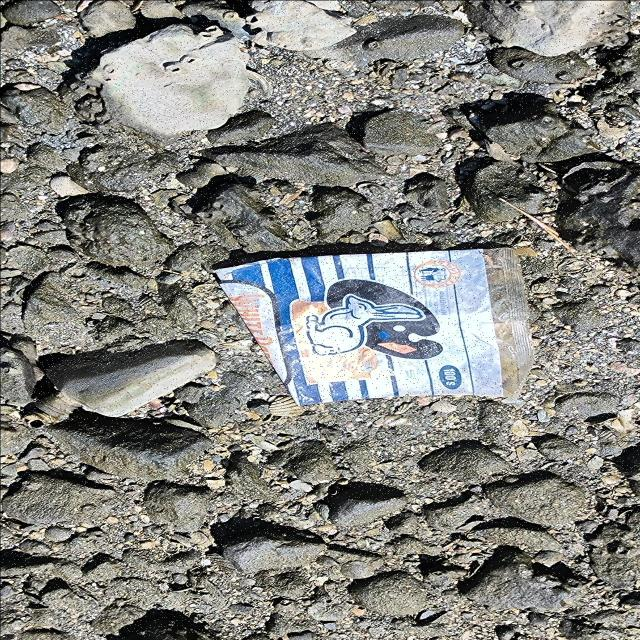plastic_waste: (211, 247, 536, 409)
